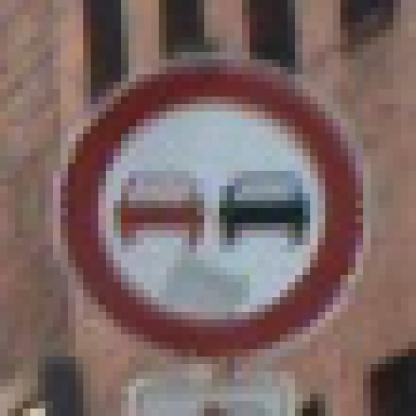No Overtaking: (47, 46, 380, 373)
